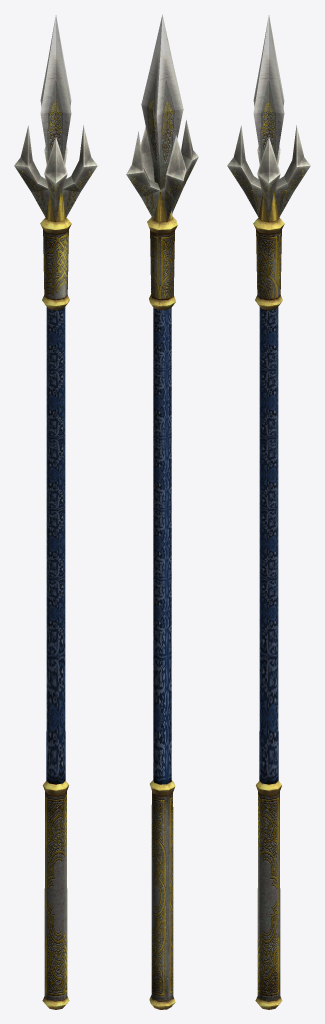
File: pike1.FBX
3 views of the same model, side by side, from view 1: azimuth 90°, elevation 25°; view 2: azimuth 210°, elevation 25°; view 3: azimuth 270°, elevation 25° (orthographic).
Parts seen in each view (by area): view 1: Cylinder01; view 2: Cylinder01; view 3: Cylinder01.
Part boxes in pixels (box(x1,y1,x2,y2)): Cylinder01: box(14, 15, 97, 1009); Cylinder01: box(126, 14, 198, 1009); Cylinder01: box(227, 15, 310, 1009).
Size of the model in its own units: 17.2 by 225 by 17.2.
